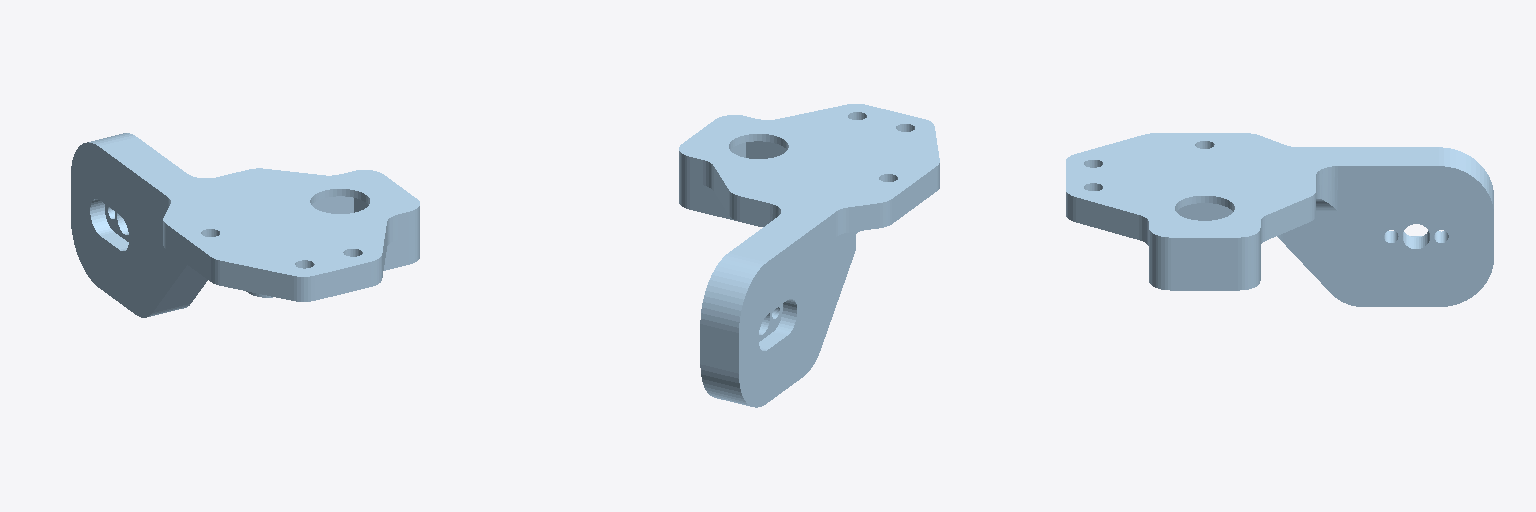
The model's file is gripper_base_arm_obj.obj.
3 renders of one model, left to right at view 1: azimuth 30°, elevation 25°; view 2: azimuth 150°, elevation 25°; view 3: azimuth 270°, elevation 25°, orthographic.
Parts seen in each view (by area): view 1: fabconvert.com_gripper_base; view 2: fabconvert.com_gripper_base; view 3: fabconvert.com_gripper_base.
Boxes of the visible parts, <box> form: fabconvert.com_gripper_base: <box>71,133,419,317</box>; fabconvert.com_gripper_base: <box>679,104,939,407</box>; fabconvert.com_gripper_base: <box>1066,133,1493,306</box>.
Size of the model in its own units: 0.2344 by 0.1478 by 0.4064.